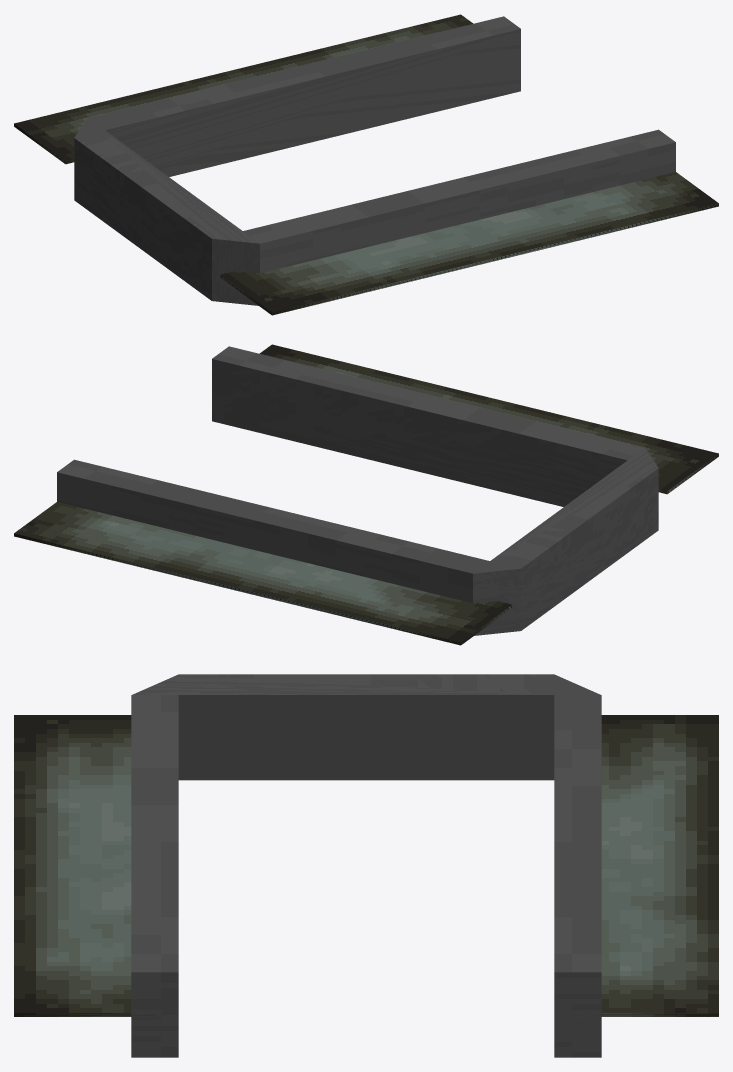
The model's file is base_door.obj.
3 renders of one model, top to bottom at view 1: azimuth 30°, elevation 25°; view 2: azimuth 150°, elevation 25°; view 3: azimuth 270°, elevation 25°, orthographic. The views are drawn at different scales.
Visible parts, largest first — view 1: Cube, Cube.001; view 2: Cube, Cube.001; view 3: Cube, Cube.001.
Boxes of the visible parts, left/top/right/bottom form: Cube: left=74, top=16, right=675, bottom=305; Cube.001: left=14, top=14, right=718, bottom=315; Cube: left=57, top=346, right=658, bottom=635; Cube.001: left=14, top=344, right=718, bottom=645; Cube: left=131, top=674, right=601, bottom=1057; Cube.001: left=14, top=715, right=718, bottom=1016.
Size of the model in its own units: 3 by 0.4 by 3.
Materials: 2 (2 with a texture image).
